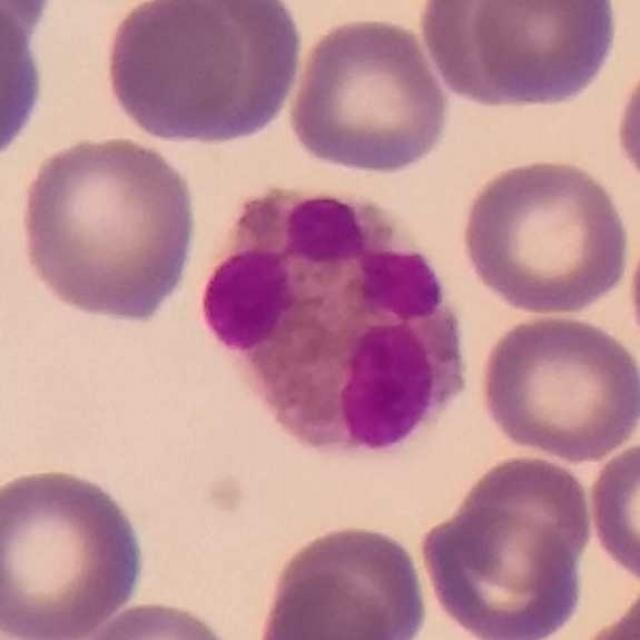eosino: (204, 184, 470, 452)
